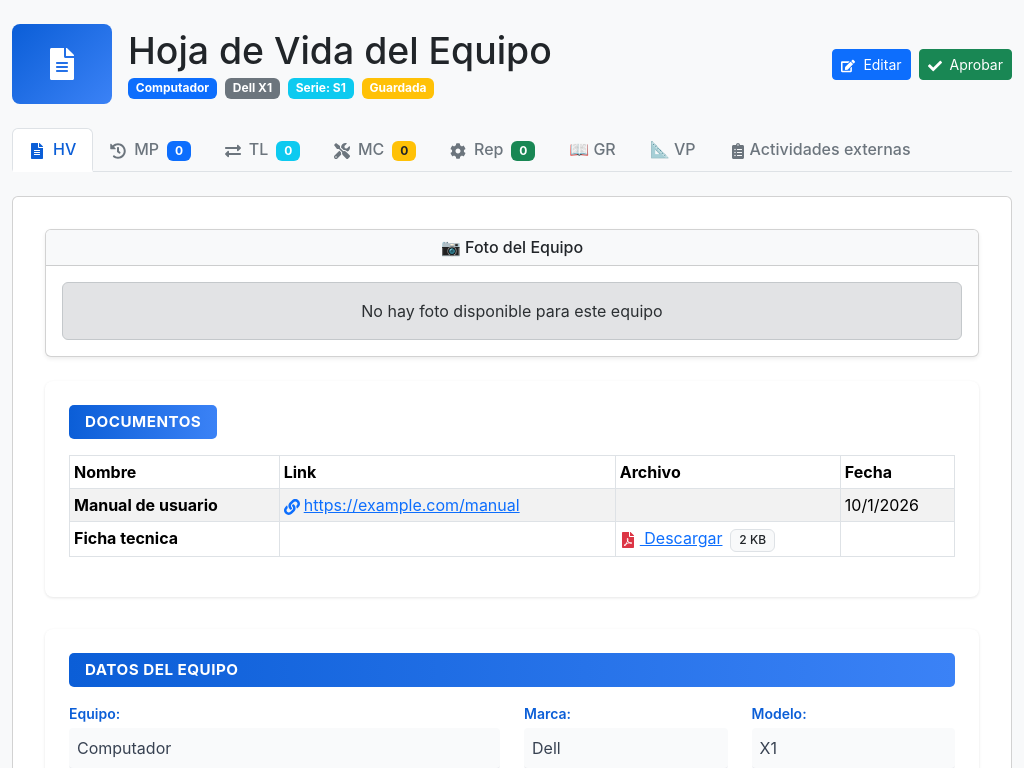
HVEquipoPage - documentos › lists only attached guides in the GR tab
The width and height of the screenshot is (1024, 768).
Click the tab "📖 GR" at (592, 149), box [552, 128, 633, 170]
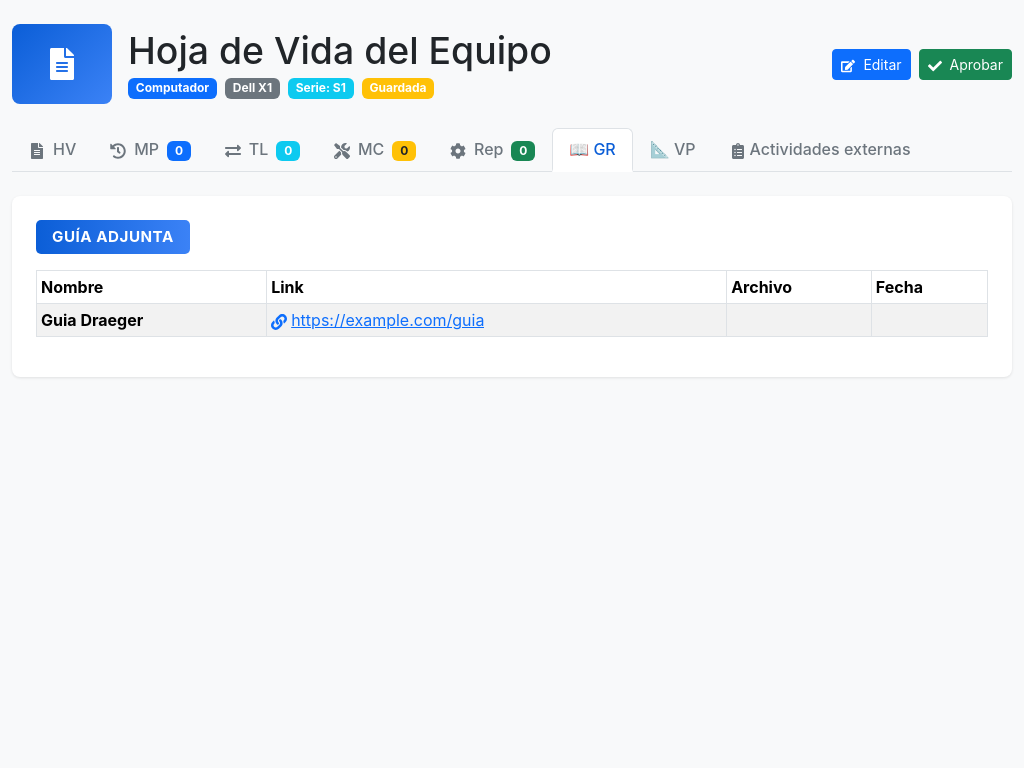
Result: the heading "Guía adjunta" is shown at [36, 220, 190, 254]
Result: the text "Guia Draeger" is shown at [41, 310, 143, 330]
Result: the text "Manual de usuario" is gone
